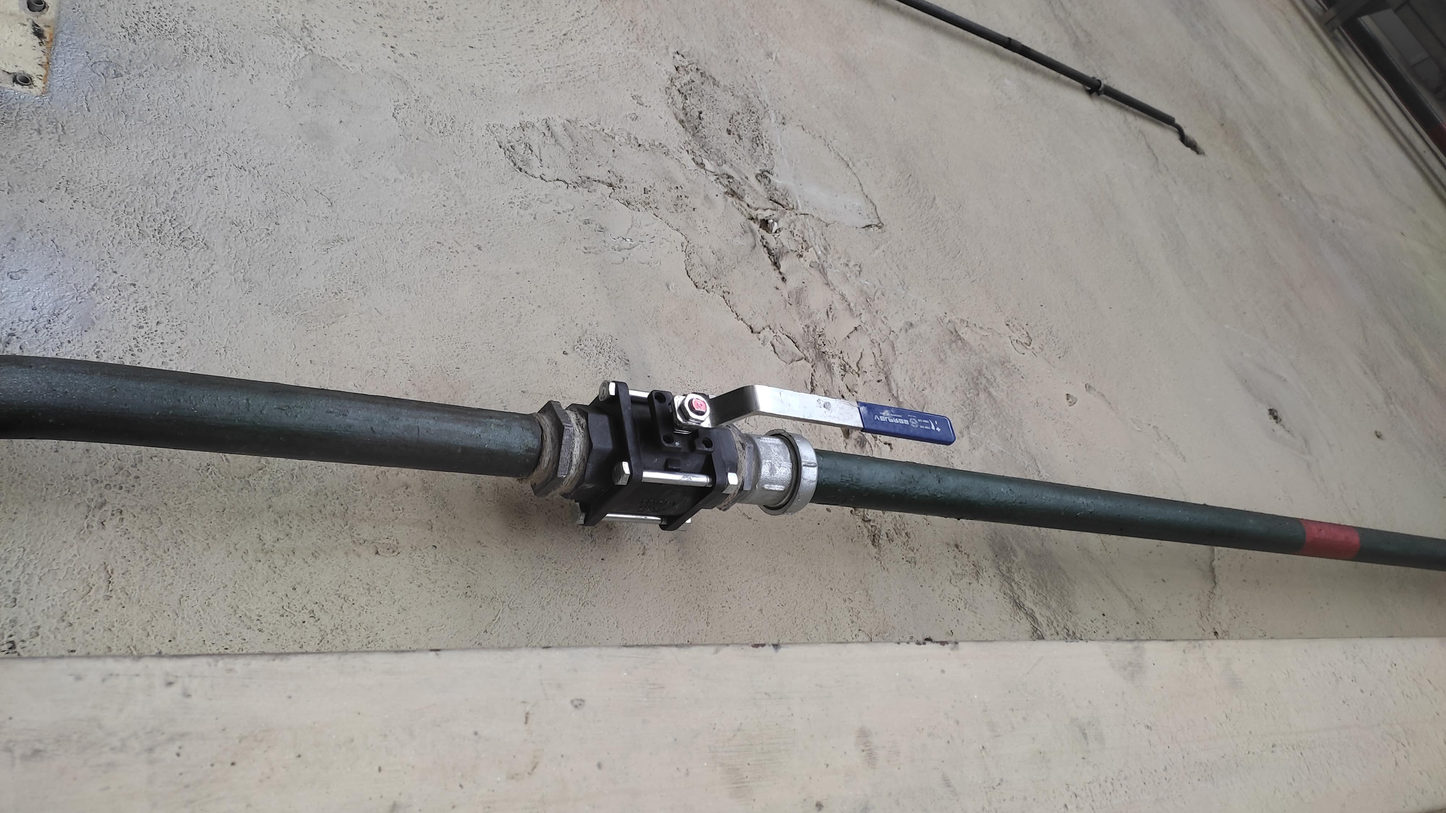opened valve: (567, 374, 958, 533)
